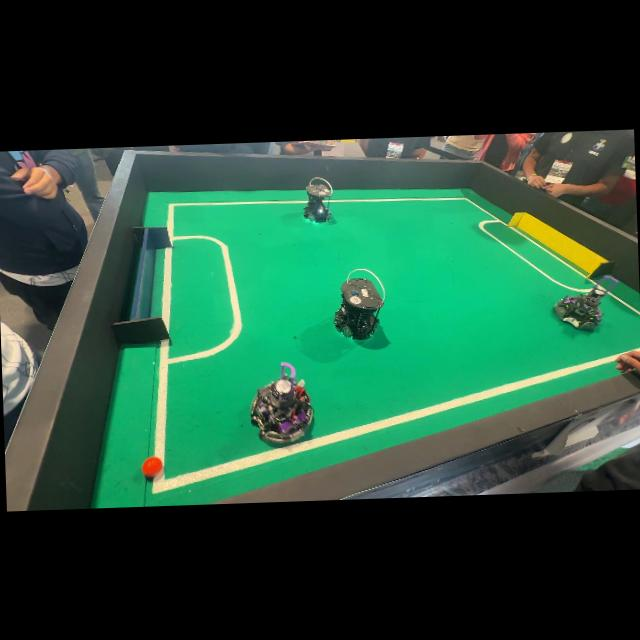ball: (141, 456, 162, 477)
goal: (508, 212, 615, 278), (112, 227, 171, 343)
robot: (251, 362, 313, 443), (333, 268, 385, 340), (553, 285, 607, 329), (304, 182, 331, 220)
